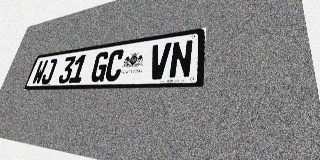1: (68, 54, 88, 83)
3: (57, 56, 76, 84)
C: (103, 49, 125, 82)
G: (89, 51, 110, 82)
J: (40, 58, 58, 84)
N: (168, 39, 194, 79)
V: (147, 42, 172, 80)
W: (31, 60, 49, 85)
